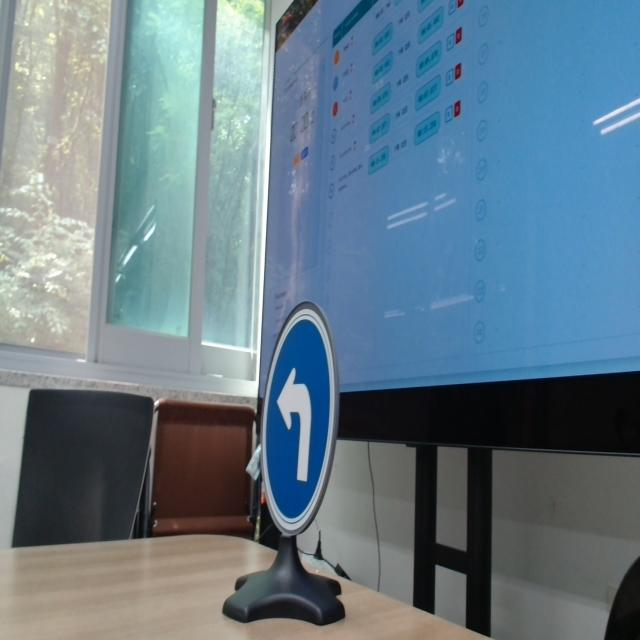left_direction: (258, 307, 339, 533)
